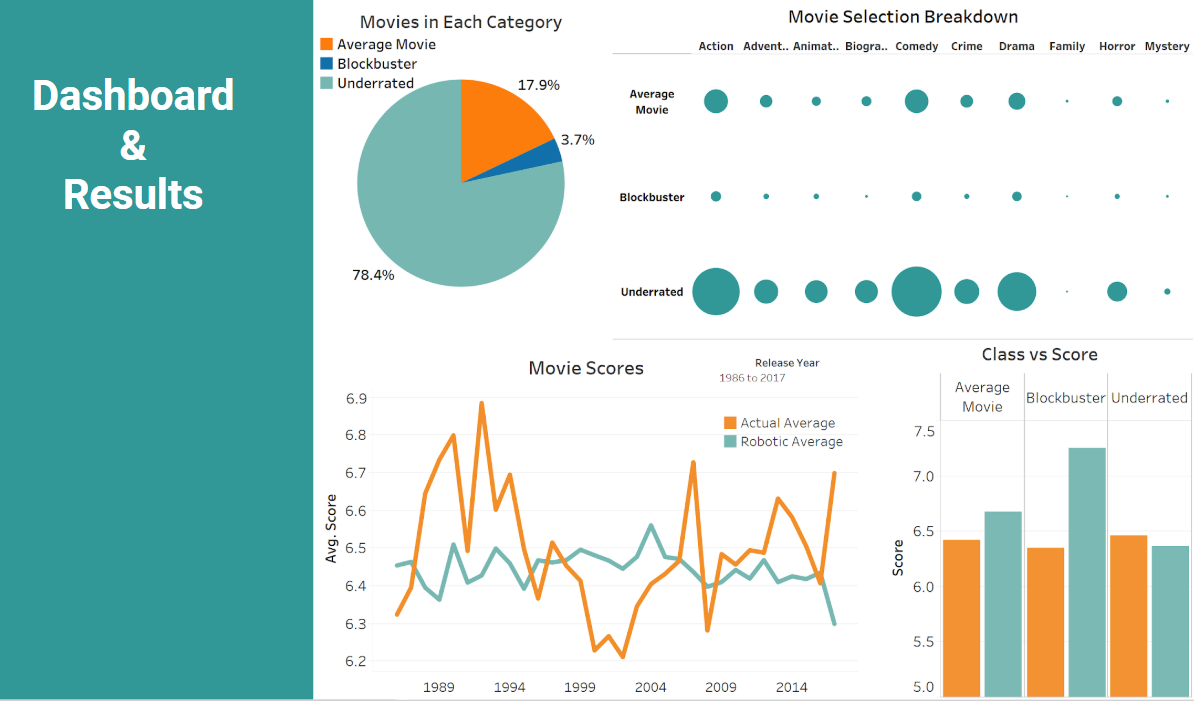

What the dashboard file says about the page in this screenshot:
{"tool":"tableau","page":{"name":"ML (3)","canvas":[1000,800],"ordinal":3},"visuals":[{"type":"worksheet","title":"money vs genre","mark":"Pie","rows":["filter_pop"],"cols":["genre"],"box":[2,5,656,387]},{"type":"worksheet","title":"Class count","mark":"Automatic","rows":["Interactive_ML_Data.csv_D98851ABAED14815910729EB9FCC82DC"],"cols":["filter_pop"],"box":[669,18,333,374]},{"type":"worksheet","title":"Class vs Score","mark":"Automatic","cols":["filter_pop"],"box":[649,387,345,410]},{"type":"worksheet","title":"Movie Scores","mark":"Automatic","cols":["release_year"],"box":[1,402,615,395]},{"type":"worksheet","title":"Movie Scores","mark":"Automatic","cols":["release_year"],"param":"[federated.1s57mr21bv3s5y17k1c7v0nprqpc].[tyr:release_year:qk]","box":[456,408,160,61]},{"type":"worksheet","title":"Movie Scores","mark":"Automatic","cols":["release_year"],"param":"[federated.1s57mr21bv3s5y17k1c7v0nprqpc].[:Measure Names]","box":[461,475,143,64]}]}

Visuals, with their boxes on the page's 1000x800 design canvas (x1, y1, x2, y2). These are canvas units, not pixel positions in the 1194x701 screenshot, which may show the page scaled, cropped or inside an application window:
"money vs genre" worksheet (Pie marks): bbox=(2, 5, 658, 392)
"Class count" worksheet: bbox=(669, 18, 1002, 392)
"Class vs Score" worksheet: bbox=(649, 387, 994, 797)
"Movie Scores" worksheet: bbox=(1, 402, 616, 797)
"Movie Scores" worksheet: bbox=(456, 408, 616, 469)
"Movie Scores" worksheet: bbox=(461, 475, 604, 539)
